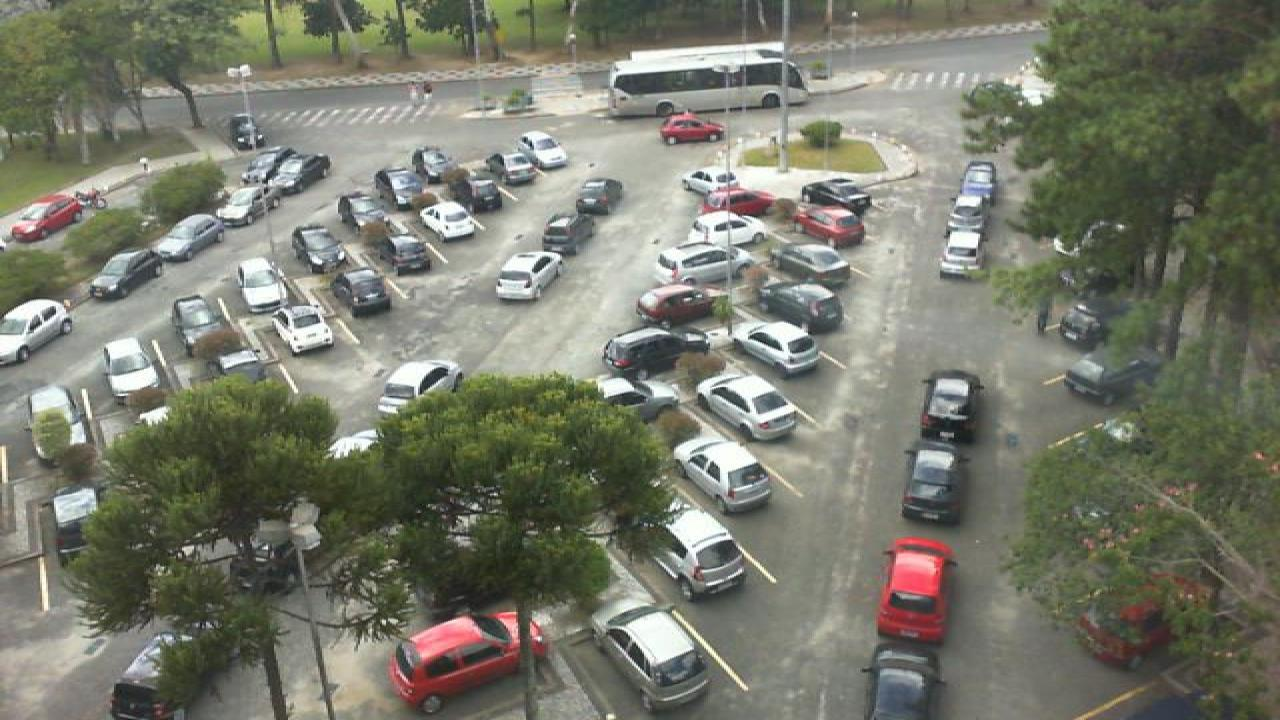Car: (388, 610, 550, 714), (592, 599, 710, 712), (108, 629, 210, 720), (650, 505, 746, 601), (876, 537, 958, 641), (668, 437, 772, 514), (692, 375, 798, 442), (1060, 341, 1164, 407), (866, 640, 942, 720), (600, 327, 708, 377), (900, 448, 968, 524), (732, 320, 822, 376), (378, 359, 466, 416), (916, 368, 982, 443), (756, 282, 844, 335), (98, 337, 162, 404), (594, 376, 680, 424), (658, 241, 738, 290), (634, 284, 718, 330), (86, 252, 166, 300), (6, 196, 86, 243), (152, 213, 228, 262), (766, 241, 852, 284), (494, 250, 564, 299), (790, 206, 870, 247), (272, 305, 334, 357), (172, 295, 230, 350), (234, 258, 292, 310), (694, 211, 770, 250), (238, 145, 310, 186), (330, 269, 390, 315), (292, 225, 350, 272), (800, 176, 874, 212), (420, 200, 480, 242), (938, 227, 986, 279), (1052, 302, 1106, 348), (374, 230, 428, 274), (278, 153, 332, 196), (700, 188, 774, 219), (216, 185, 270, 226), (540, 214, 594, 254), (216, 344, 272, 382), (678, 168, 748, 198), (946, 192, 990, 238), (574, 176, 624, 214), (338, 192, 384, 233), (458, 169, 504, 210), (518, 131, 568, 168), (954, 158, 996, 202), (406, 146, 450, 186), (370, 164, 412, 202), (482, 140, 524, 178), (228, 112, 266, 152)
